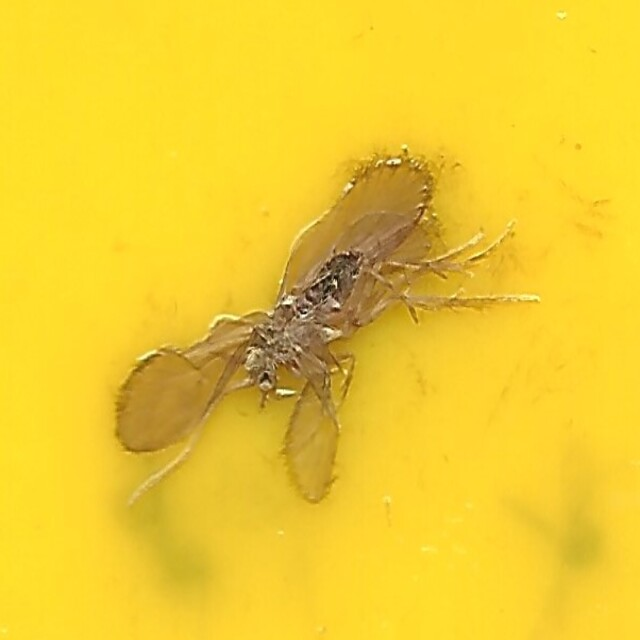Trichoptera: (106, 142, 534, 498)
